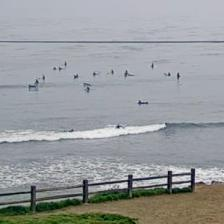surfer: (138, 100, 148, 105), (28, 84, 36, 90), (176, 72, 180, 80), (34, 78, 39, 84), (164, 72, 171, 76), (125, 70, 128, 78), (86, 86, 90, 92), (150, 63, 154, 68), (74, 74, 78, 79), (52, 66, 56, 71), (42, 75, 46, 80), (111, 69, 114, 75), (64, 61, 67, 67), (92, 72, 96, 76), (84, 83, 90, 85), (59, 66, 62, 70)
